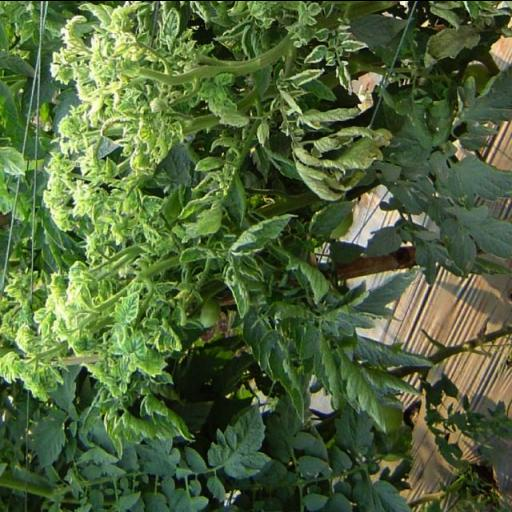disease_tomato: (191, 66, 251, 126), (231, 212, 294, 256), (156, 4, 182, 54), (158, 306, 182, 358), (110, 290, 142, 324), (334, 60, 356, 94), (302, 43, 330, 64), (340, 37, 370, 52)
